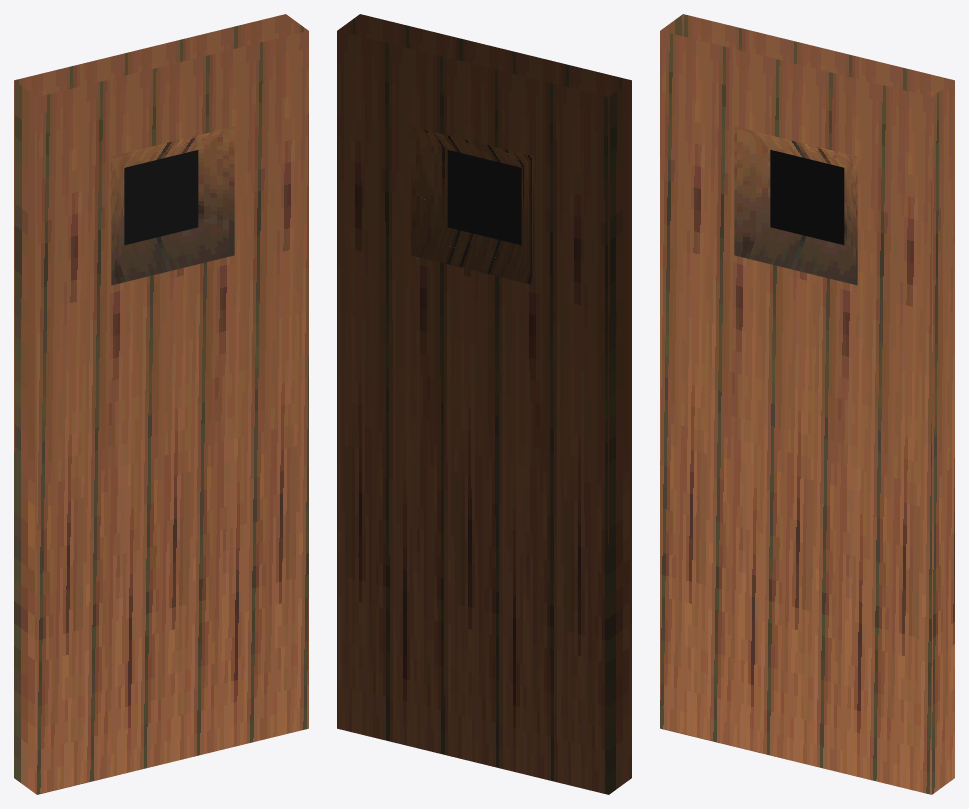
Rendered from PsevdoorwoodZ.obj.
3 views of the same model, side by side, from view 1: azimuth 30°, elevation 25°; view 2: azimuth 150°, elevation 25°; view 3: azimuth 330°, elevation 25° (orthographic).
Size of the model in its own units: 642 by 1575 by 94.
Materials: 3 (3 with a texture image).
